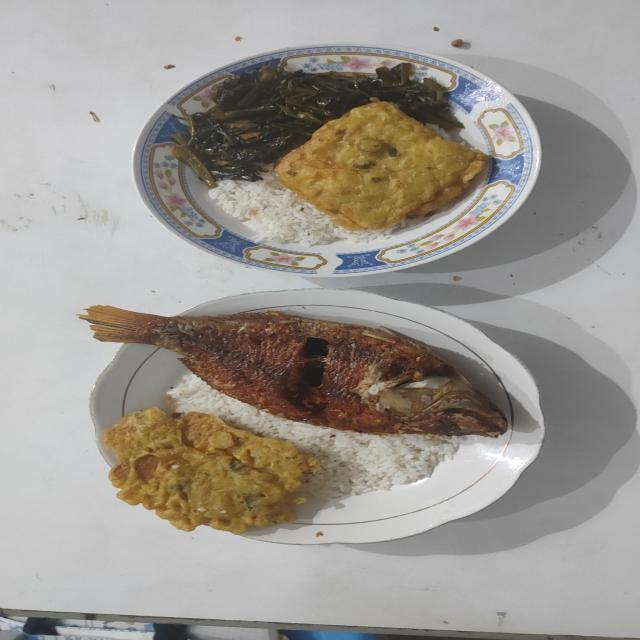ikan_mujair: (80, 306, 507, 437)
nasi_putih: (170, 376, 468, 504), (210, 170, 392, 248)
tumis_kangkung: (174, 59, 460, 188)
